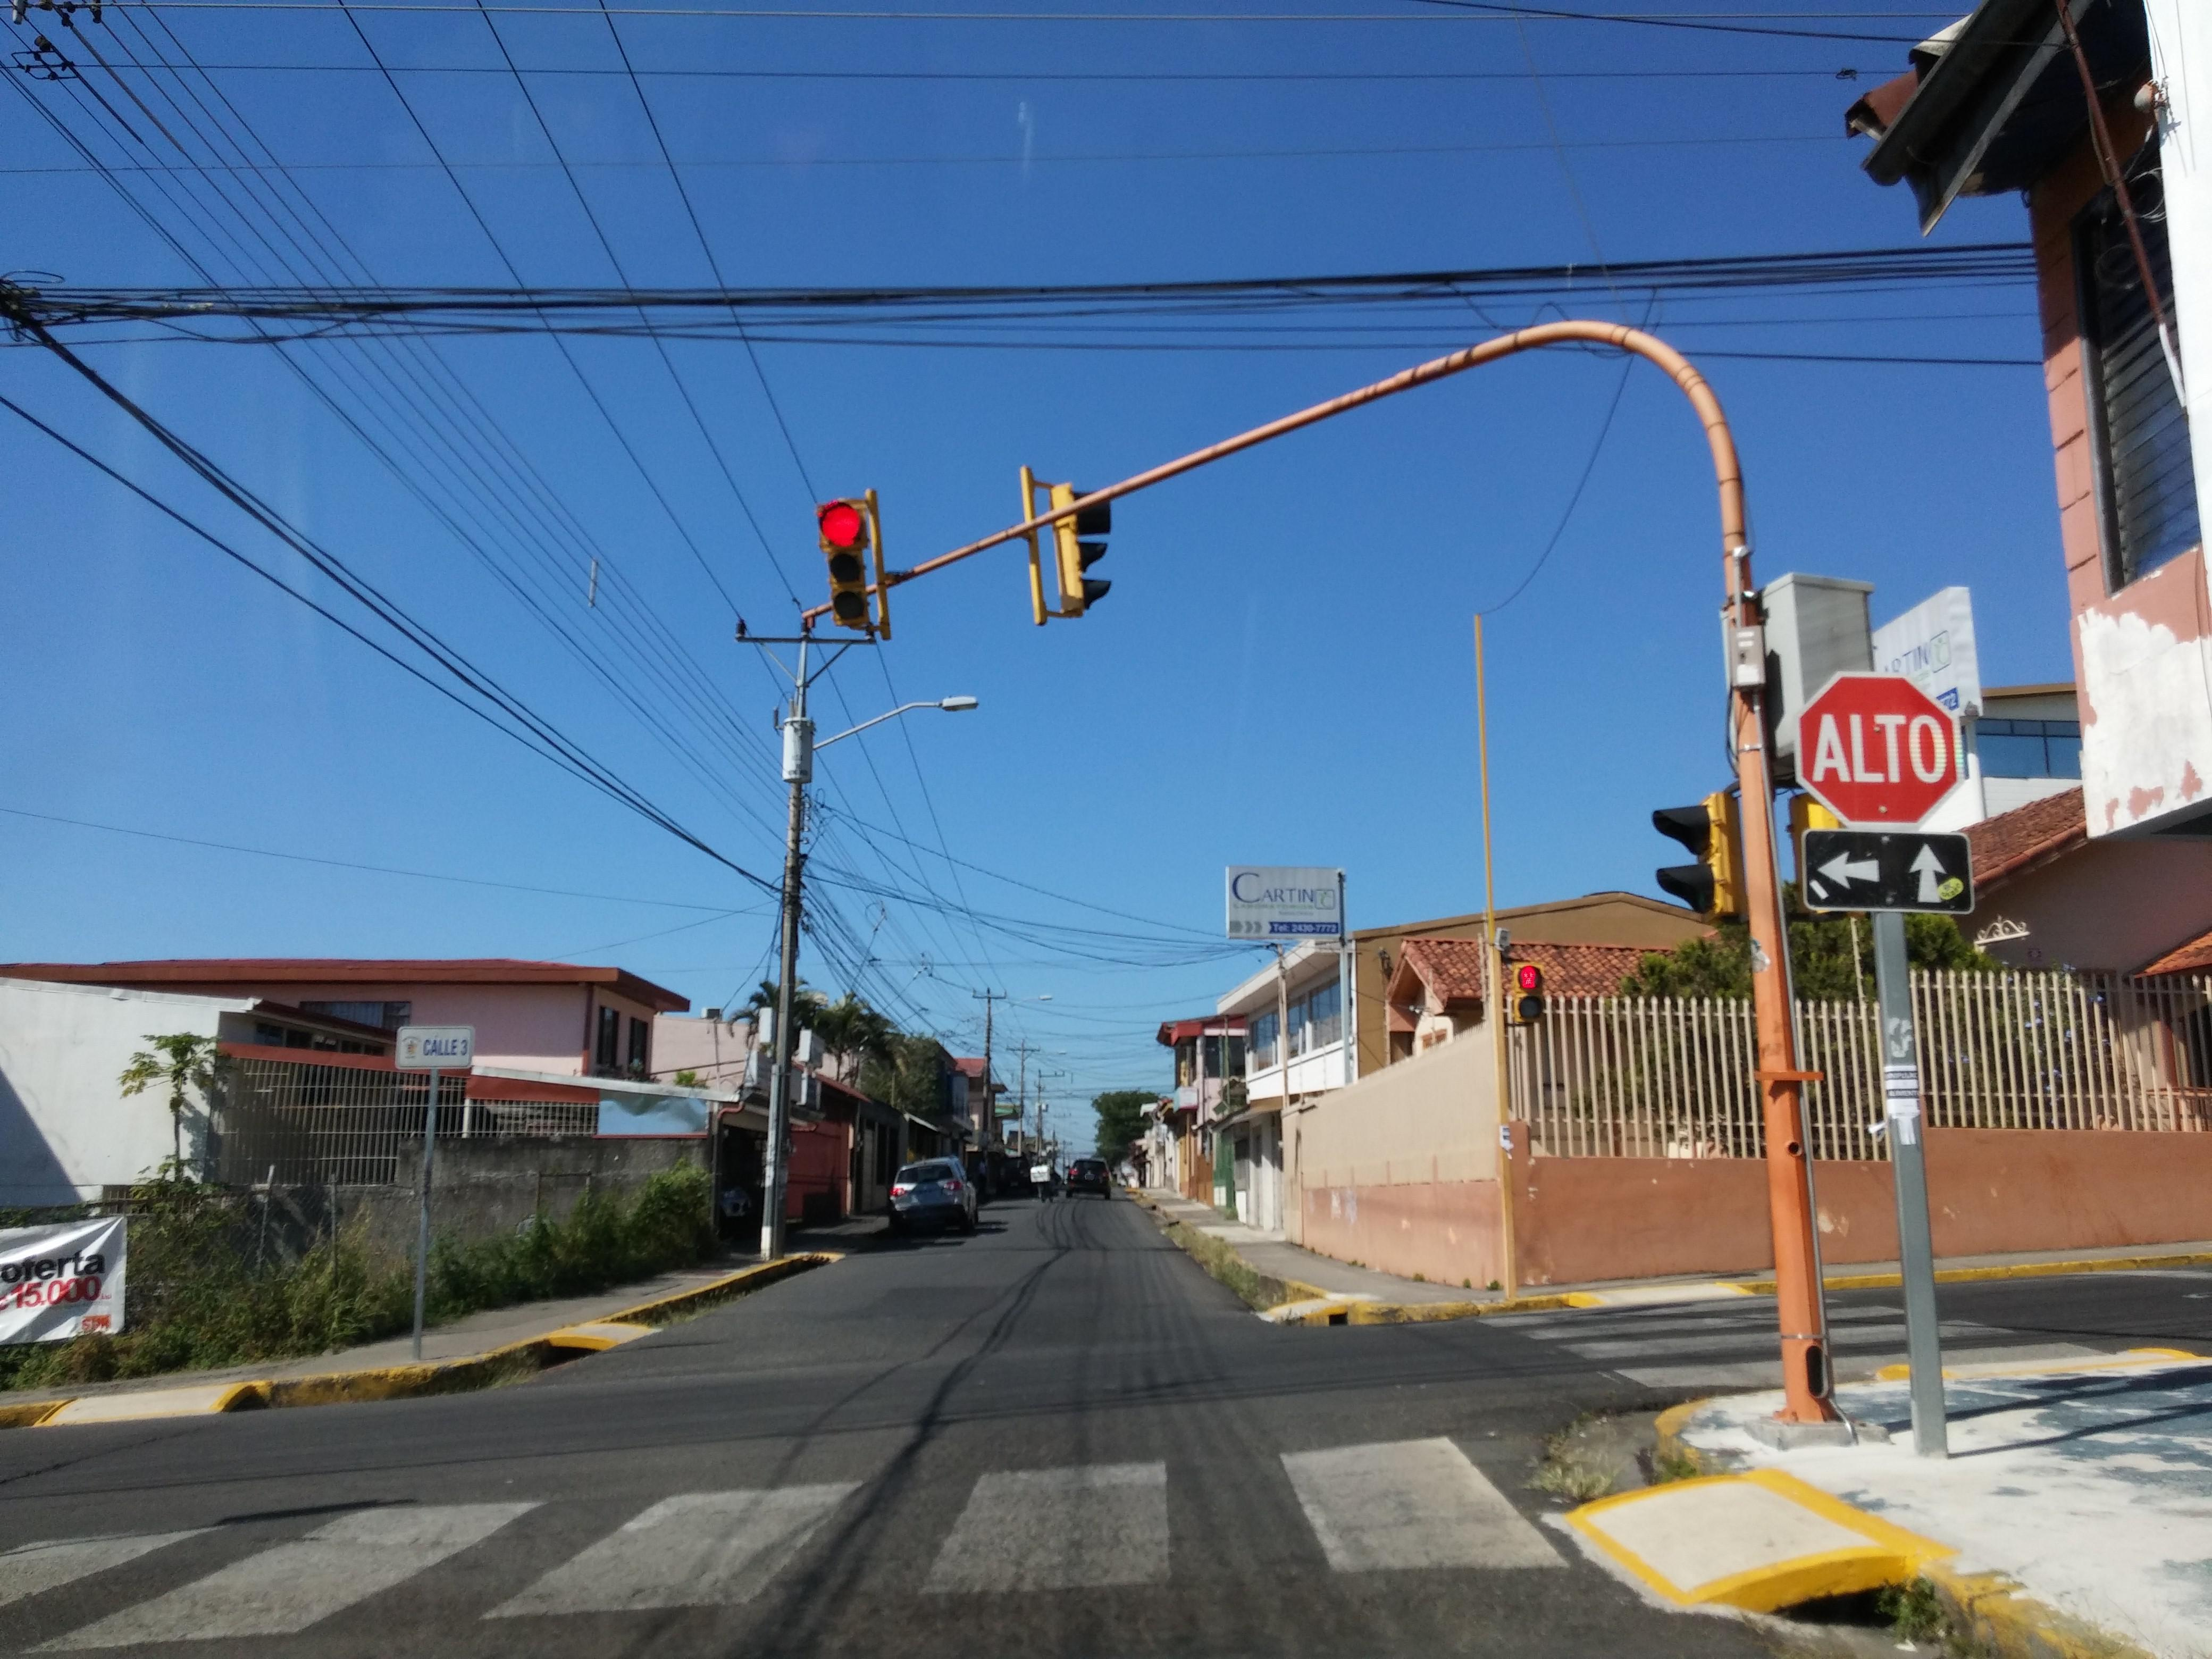vinyl banner: (5, 1211, 139, 1352)
